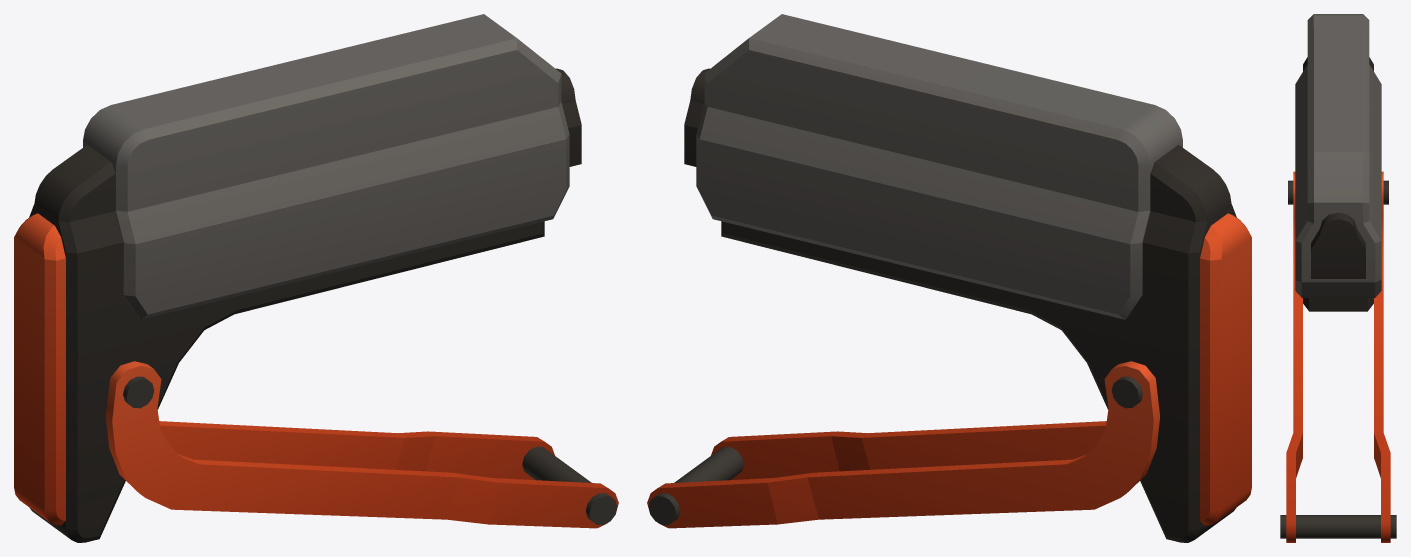
File: MG4_ButtstockHeavy.fbx
3 views of the same model, side by side, from view 1: azimuth 30°, elevation 25°; view 2: azimuth 150°, elevation 25°; view 3: azimuth 270°, elevation 25° (orthographic). The views are drawn at different scales.
Parts seen in each view (by area): view 1: MG4_ButtstockHeavy; view 2: MG4_ButtstockHeavy; view 3: MG4_ButtstockHeavy.
Part boxes in pixels (x1,y1,x2,y2): MG4_ButtstockHeavy: [14, 14, 618, 542]; MG4_ButtstockHeavy: [647, 14, 1251, 542]; MG4_ButtstockHeavy: [1280, 14, 1396, 542].
Bounding box in the file's own units: 24.72 × 20.95 × 6.03.
